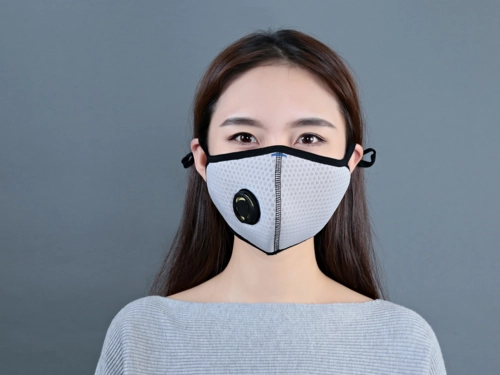withmask: (181, 21, 380, 256)
